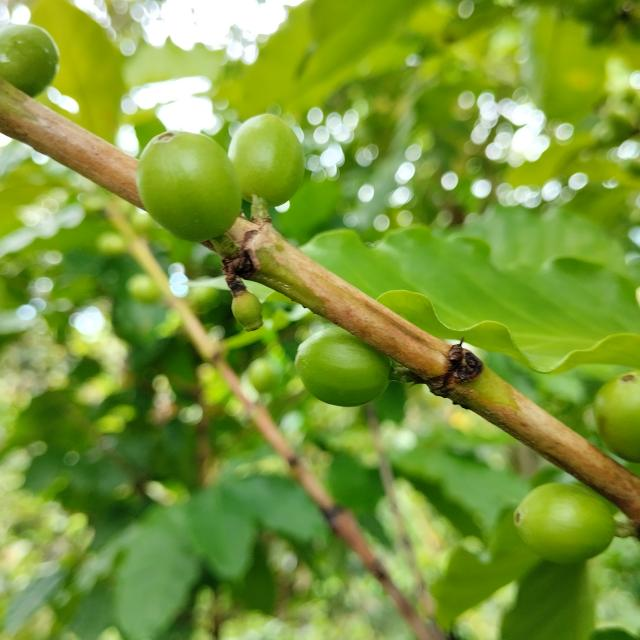green: (136, 130, 241, 242), (515, 484, 617, 564), (515, 484, 617, 564), (295, 326, 391, 407), (295, 327, 391, 407), (228, 113, 304, 206), (0, 23, 58, 96), (595, 371, 640, 463), (225, 265, 261, 330)
